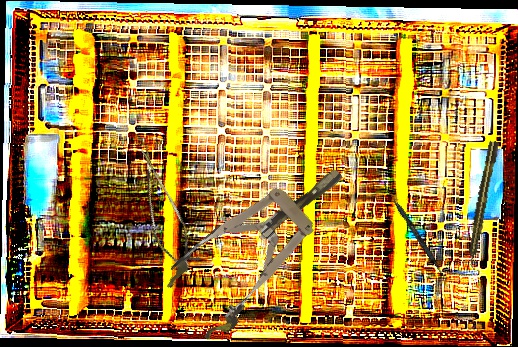Handpiece: (463, 140, 501, 270)
Micro Scissor: (112, 145, 211, 275)
Spatula Surgical: (379, 180, 450, 282)
Speculum: (154, 140, 370, 347)
